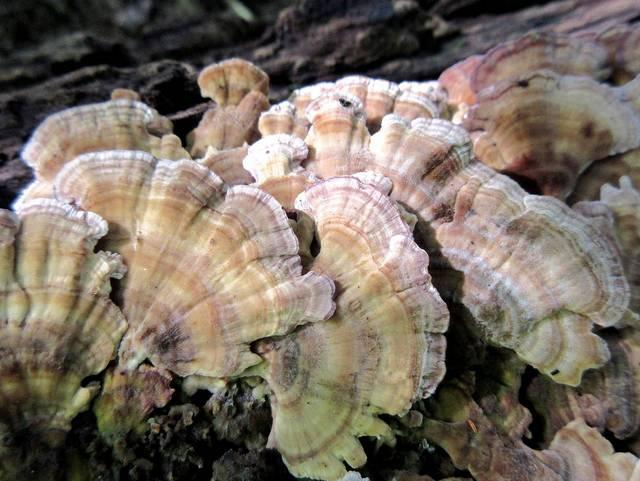Non-edible Mushroom: (1, 23, 637, 478), (52, 147, 336, 386), (251, 172, 451, 479)
